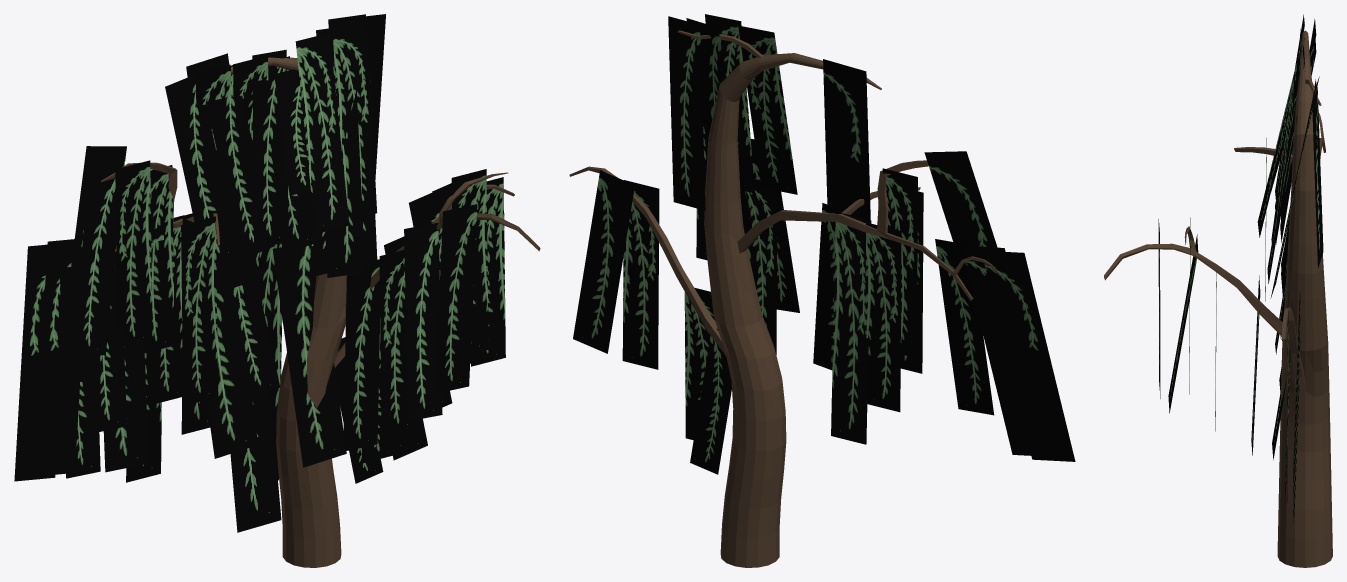
File: willow.obj
The picture shows the model from 3 angles, left to right: view 1: azimuth 30°, elevation 25°; view 2: azimuth 150°, elevation 25°; view 3: azimuth 270°, elevation 25°; orthographic projection. The views are drawn at different scales.
Visible parts, largest first — view 1: 平面.041; view 2: 平面.041; view 3: 平面.041.
Boxes of the visible parts, x1,y1,x2,y2 form: 平面.041: [14, 14, 540, 567]; 平面.041: [569, 14, 1075, 567]; 平面.041: [1104, 14, 1332, 567].
Size of the model in its own units: 23.71 by 23.71 by 9.99.
Materials: 48 (48 with a texture image).
